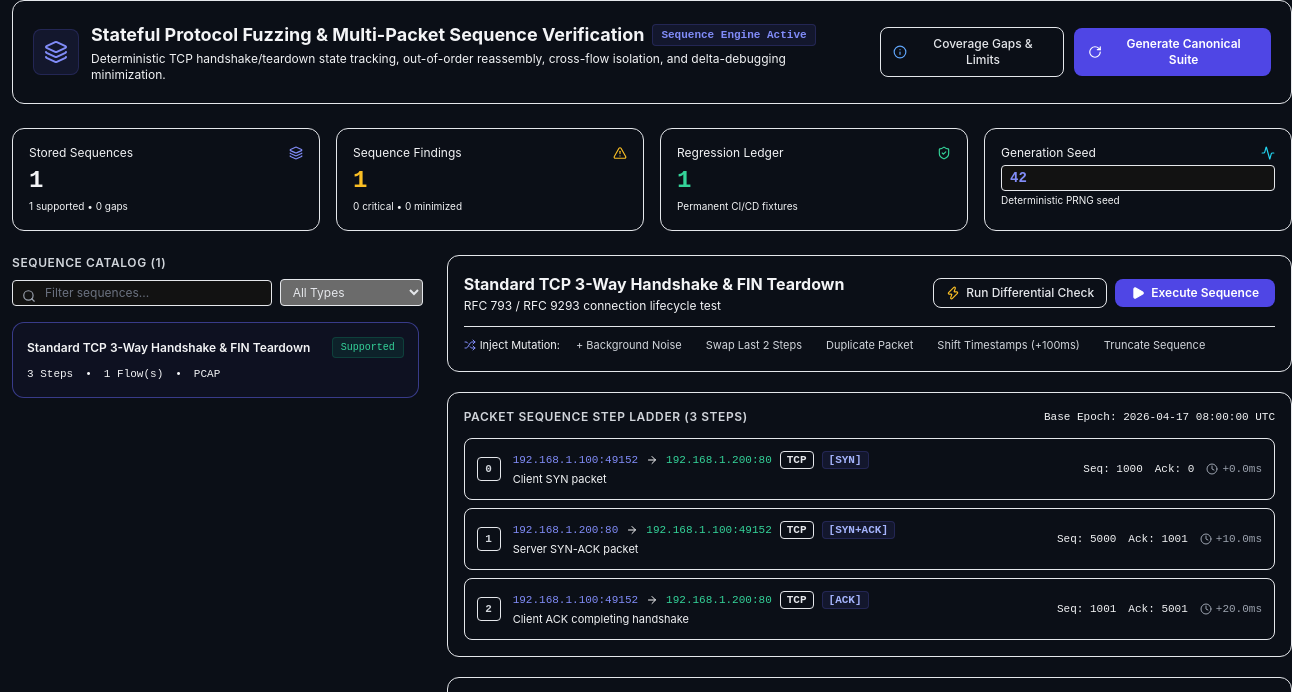
StatefulSequenceWorkbench Component › runs differential check and renders equivalent verification banner
Check: the text "Run Differential Check" is shown, box [966,285,1094,301]
Click the button "Run Differential Check" at (1020,293), box [933,278,1107,308]
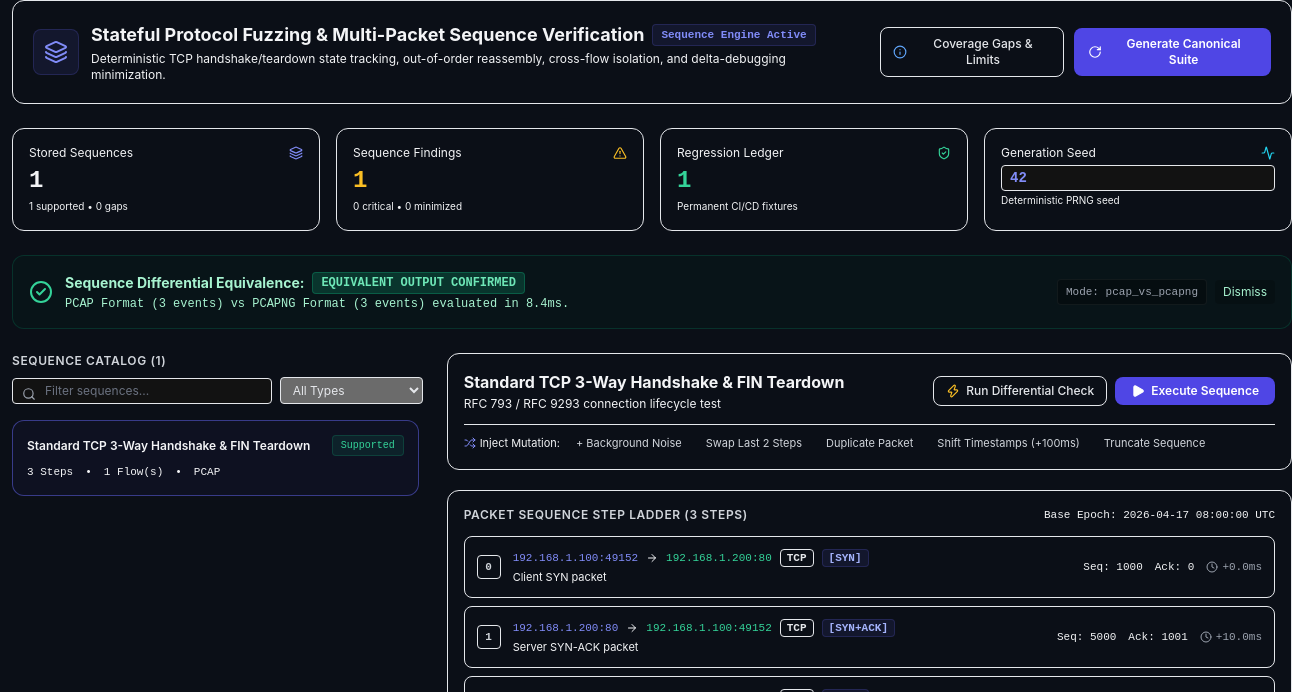
Check: the text "EQUIVALENT OUTPUT CONFIRMED" is shown, box [312,272,525,294]
Check: the text "3 events" is shown, box [65,296,569,312]
